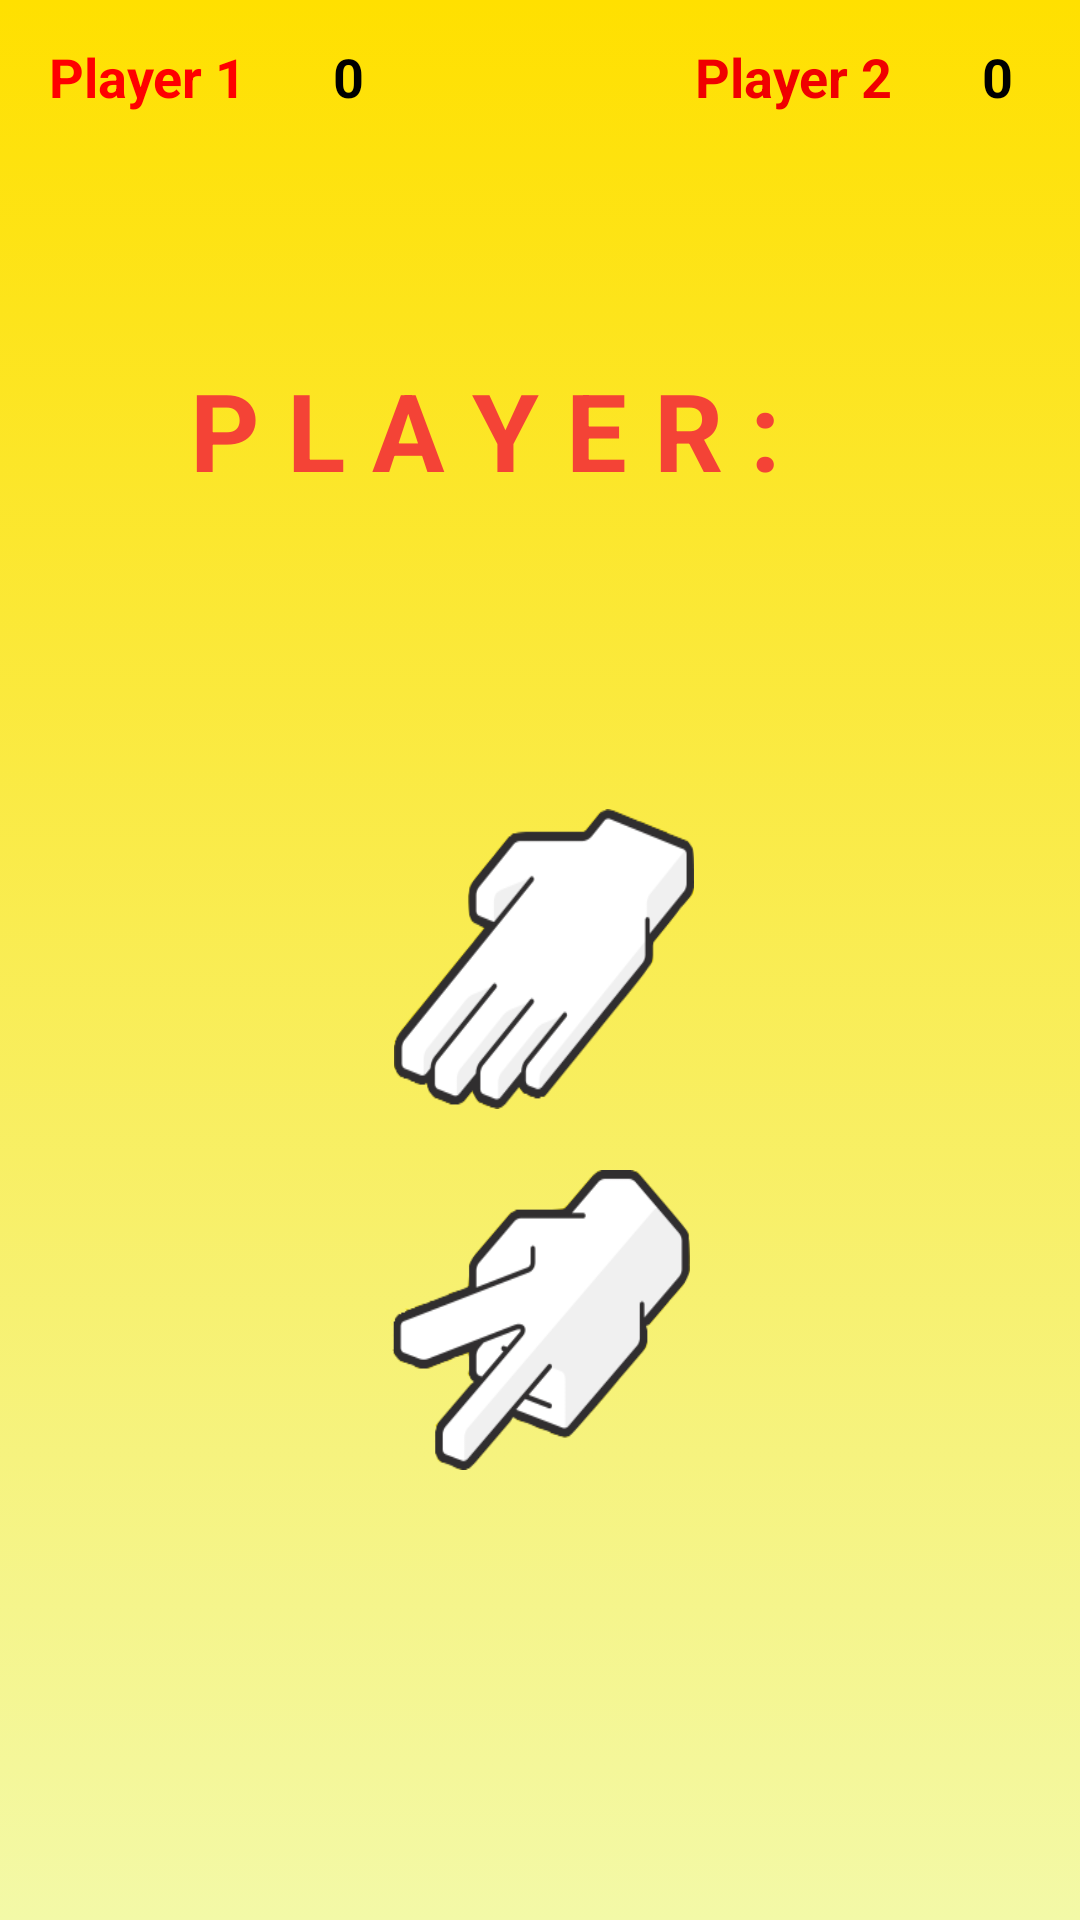

Point at icon controls on the screen. Image size 1080px×1920px, points as point (x, y).
paper: point (544, 959)
scissor: point (540, 1320)
